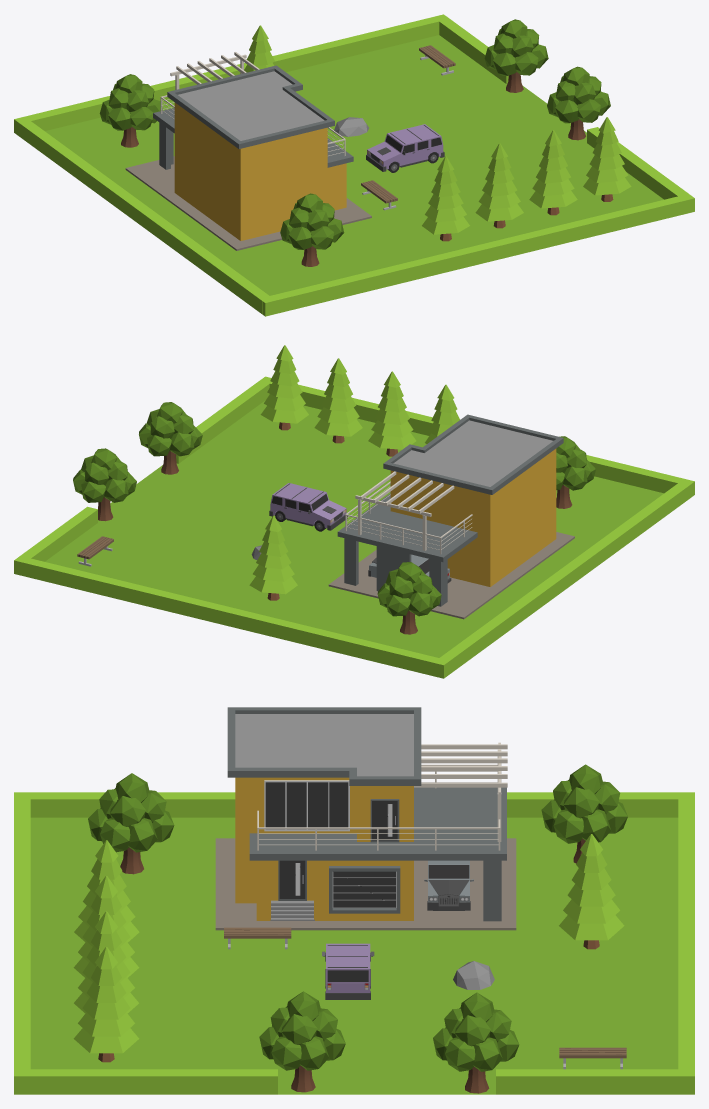
The model's file is house.gltf.
The picture shows the model from 3 angles, top to bottom: view 1: azimuth 30°, elevation 25°; view 2: azimuth 150°, elevation 25°; view 3: azimuth 270°, elevation 25°; orthographic projection. The views are drawn at different scales.
Parts seen in each view (by area): view 1: Natures_Grass Tile_Plane.010 (×4), Building_House_01_color01_Cube.024, Natures_Grass Fence_Cube.2536 (×5), Natures_Big Tree_Mesh.008 (×4), Natures_Fir Tree_Cylinder.004 (×5), Vehicle_SUV_Cube.096, Props_Bench_1_Cube.023 (×2), Natures_Rock_Big_Mesh.001; view 2: Natures_Grass Tile_Plane.010 (×4), Building_House_01_color01_Cube.024, Natures_Grass Fence_Cube.2536 (×5), Natures_Big Tree_Mesh.008 (×4), Natures_Fir Tree_Cylinder.004 (×5), Vehicle_SUV_Cube.096; view 3: Natures_Grass Tile_Plane.010 (×4), Building_House_01_color01_Cube.024, Natures_Grass Fence_Cube.2536 (×5), Natures_Big Tree_Mesh.008 (×4), Natures_Fir Tree_Cylinder.004 (×5), Vehicle_SUV_Cube.096, Vehicle_Car_Cube.050, Props_Bench_1_Cube.023 (×2), Natures_Rock_Big_Mesh.001.
Part boxes in pixels (x1,y1,x2,y2): Natures_Grass Tile_Plane.010 (×4): (45,35,663,295); Building_House_01_color01_Cube.024: (125,52,371,250); Natures_Grass Fence_Cube.2536 (×5): (14,14,694,316); Natures_Big Tree_Mesh.008 (×4): (99,19,610,266); Natures_Fir Tree_Cylinder.004 (×5): (244,25,631,241); Vehicle_SUV_Cube.096: (366,124,444,172); Props_Bench_1_Cube.023 (×2): (361,45,455,210); Natures_Rock_Big_Mesh.001: (334,117,368,136); Natures_Grass Tile_Plane.010 (×4): (45,400,663,657); Building_House_01_color01_Cube.024: (328,414,574,619); Natures_Grass Fence_Cube.2536 (×5): (14,376,694,678); Natures_Big Tree_Mesh.008 (×4): (73,402,595,634); Natures_Fir Tree_Cylinder.004 (×5): (249,345,459,600); Vehicle_SUV_Cube.096: (269,483,347,531); Natures_Grass Tile_Plane.010 (×4): (30,817,678,1094); Building_House_01_color01_Cube.024: (215,707,516,930); Natures_Grass Fence_Cube.2536 (×5): (14,792,694,1094); Natures_Big Tree_Mesh.008 (×4): (88,764,627,1093); Natures_Fir Tree_Cylinder.004 (×5): (73,834,624,1062); Vehicle_SUV_Cube.096: (322,943,374,999); Vehicle_Car_Cube.050: (424,860,473,910); Props_Bench_1_Cube.023 (×2): (224,927,626,1069); Natures_Rock_Big_Mesh.001: (453,961,494,989).
Size of the model in its own units: 41.7 by 9.07 by 40.5.
12 materials, 12 textured.
